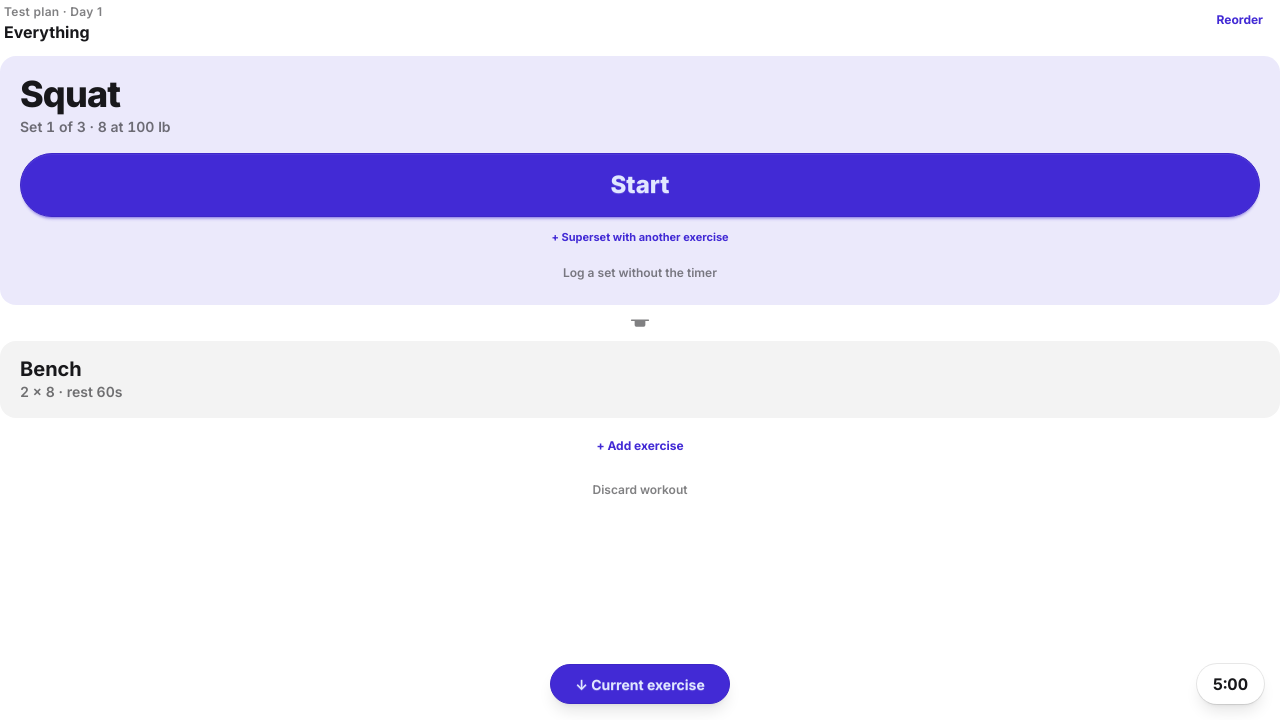
Test: editing an exercise mid-workout › renames it, keeping the numbers typed
The image size is (1280, 720).
Click the button with aria-label "Squat options" at (70, 94), box 20,72 -> 120,117
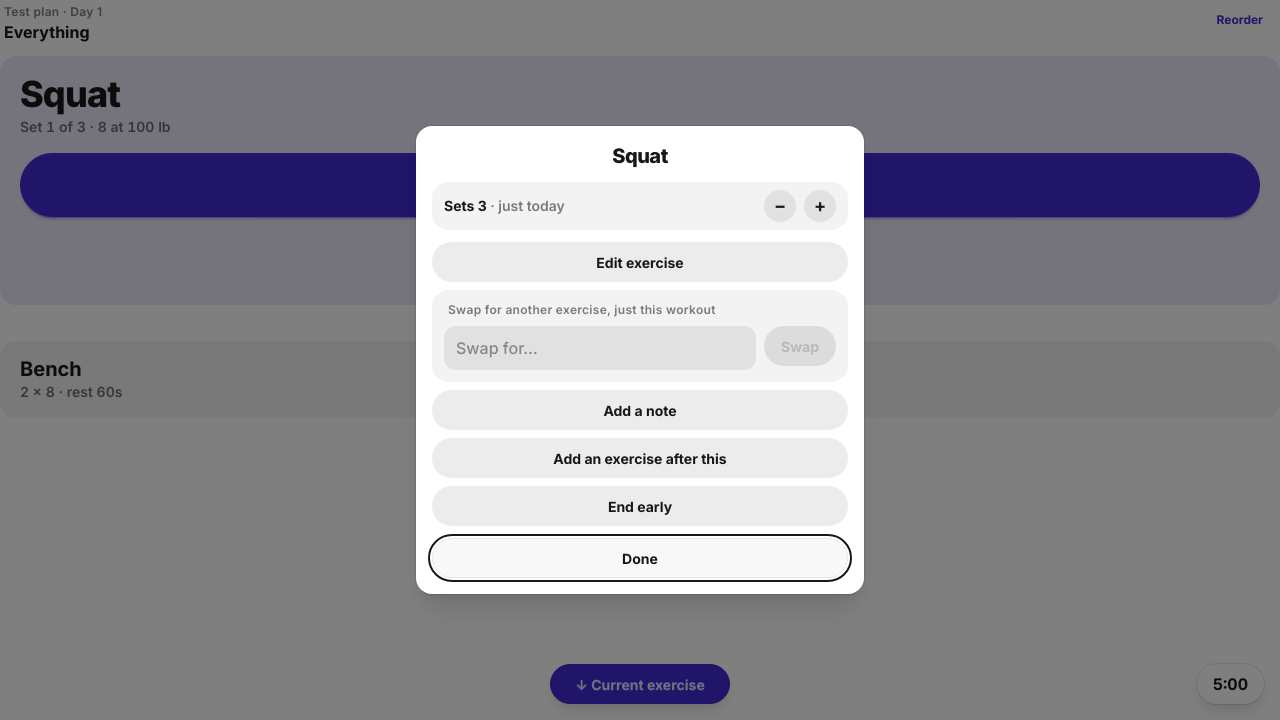
Click the button "Edit exercise" at (640, 262), box 432,242 -> 848,282
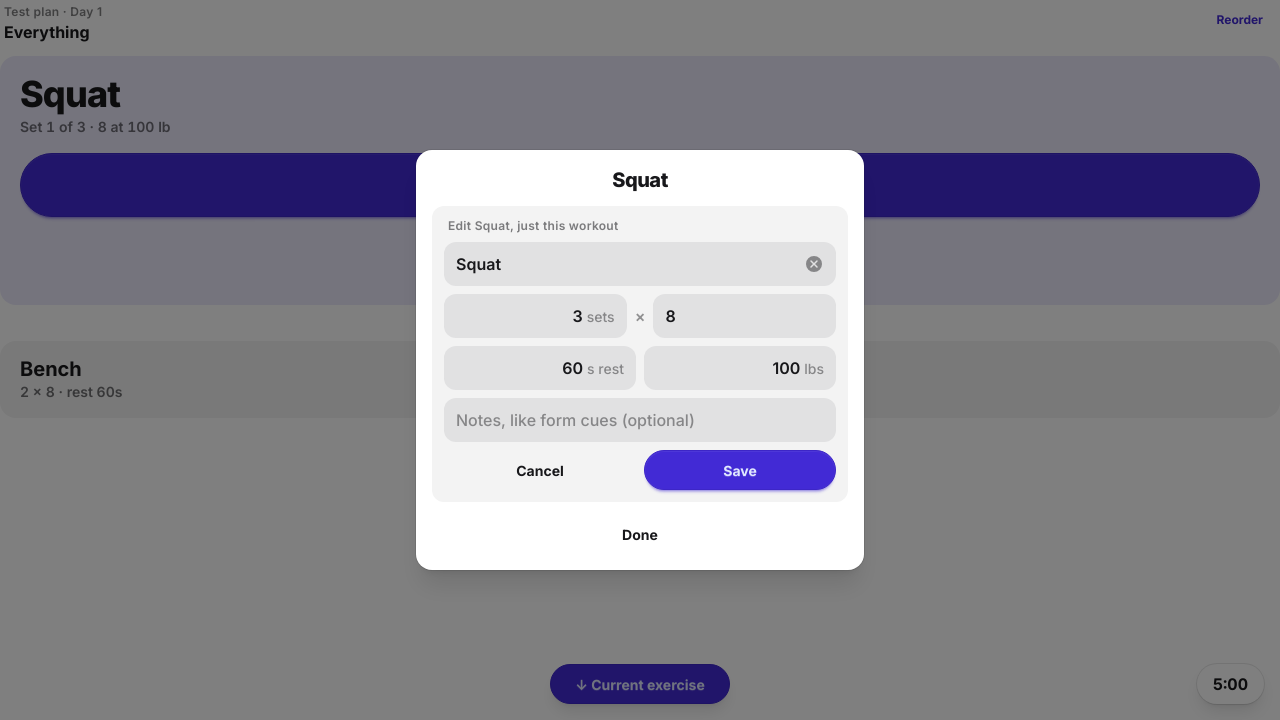
Clear the field named "Exercise" at (640, 264), box 444,242 -> 836,286
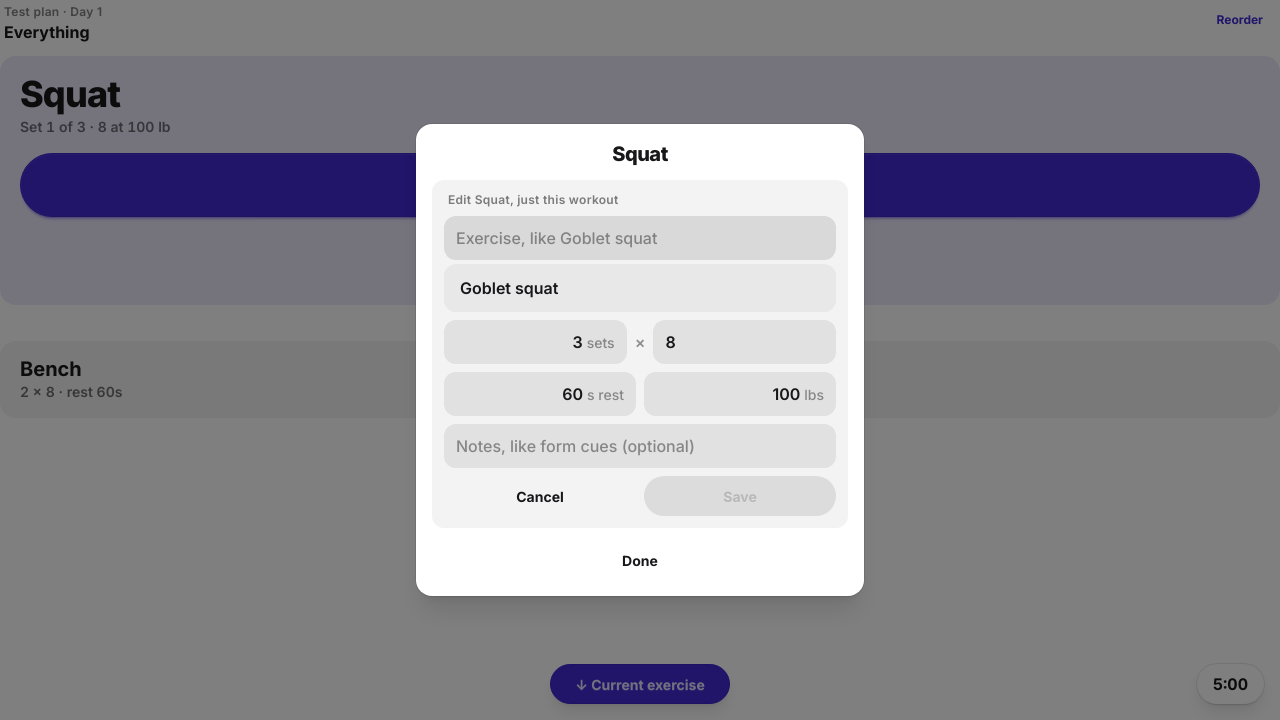
Type "Front squat" into the field labelled "Exercise" at (640, 238), box 444,216 -> 836,260
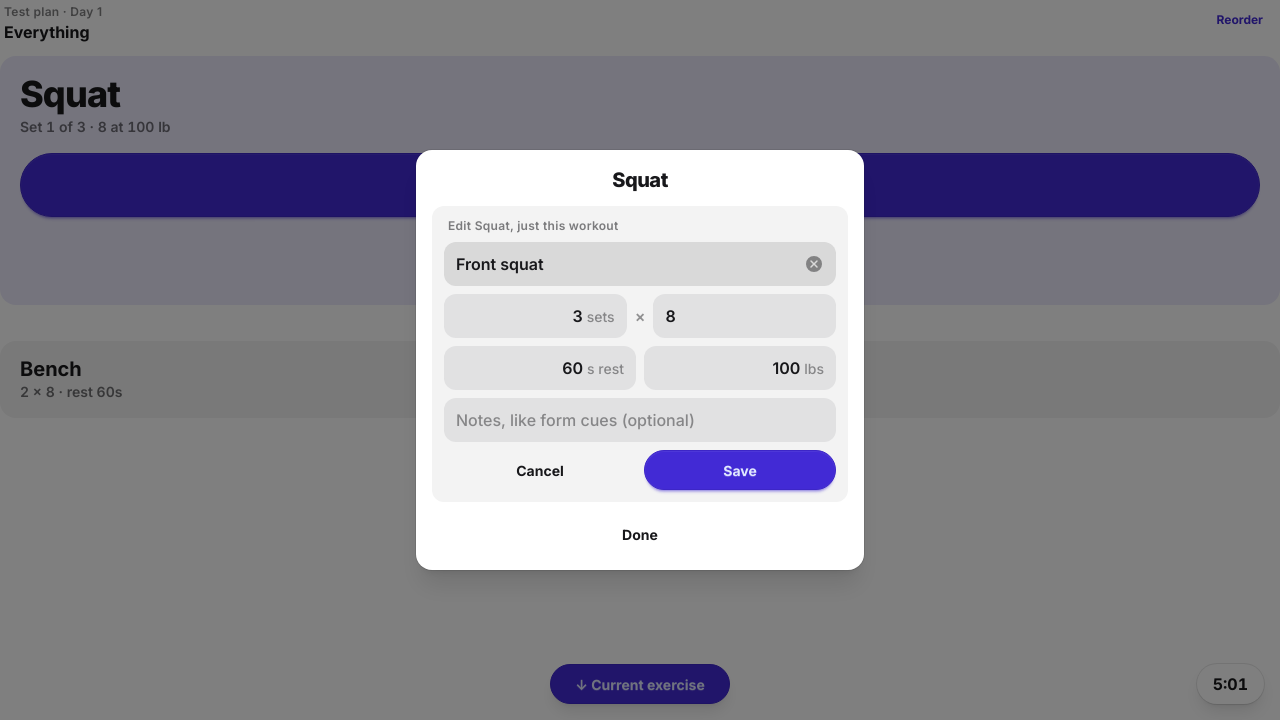
Click the button "Save" at (740, 470), box 644,450 -> 836,490
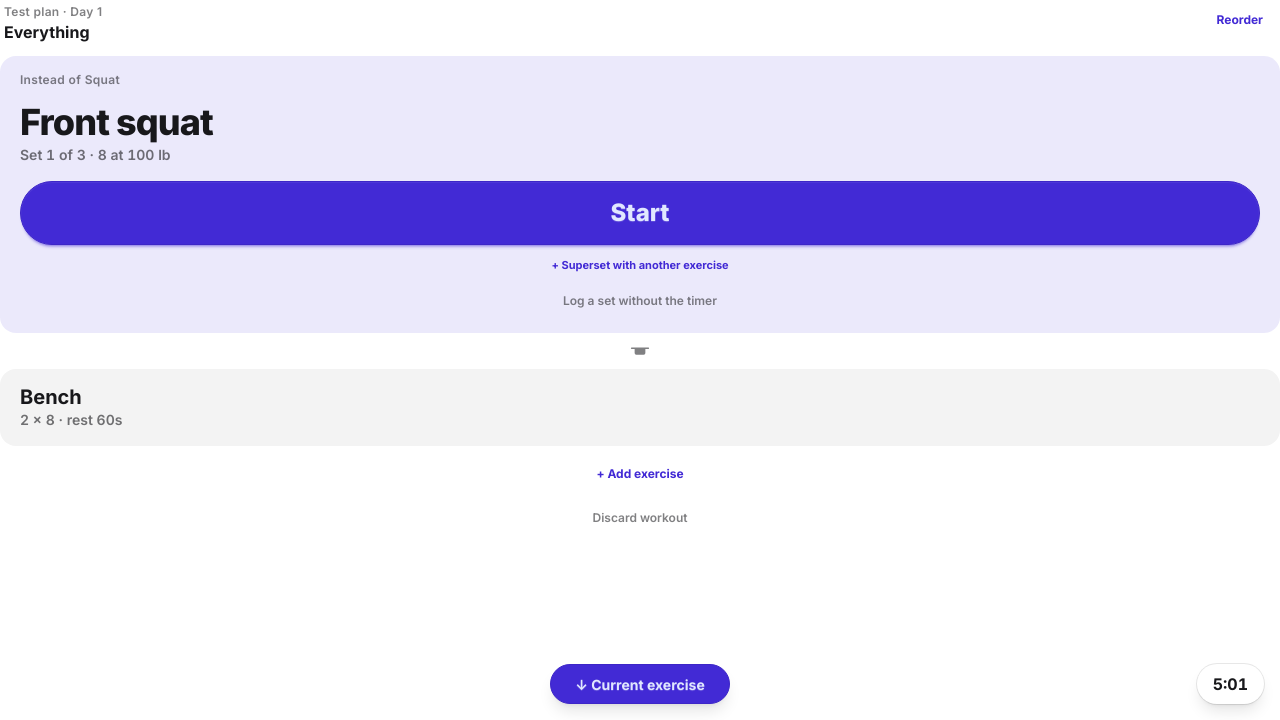
expect the text "Set 1 of 3 · 8 at 100 lb" is shown: met, box 20,146 -> 171,163
expect the button with aria-label "Front squat options" is shown: met, box 20,100 -> 213,145
expect the text "Instead of Squat" is shown: met, box 20,72 -> 120,88
